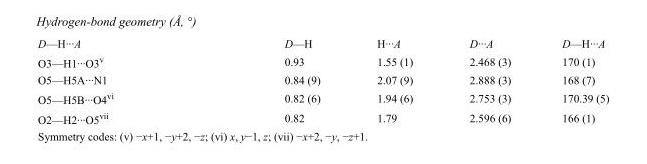table: (37, 36, 608, 125)
table column: (37, 36, 198, 125), (198, 36, 347, 125), (440, 36, 535, 125), (347, 36, 440, 125), (535, 36, 608, 125)
table row: (37, 51, 608, 71), (37, 87, 608, 107), (37, 107, 608, 125), (37, 71, 608, 87), (37, 36, 608, 51)
